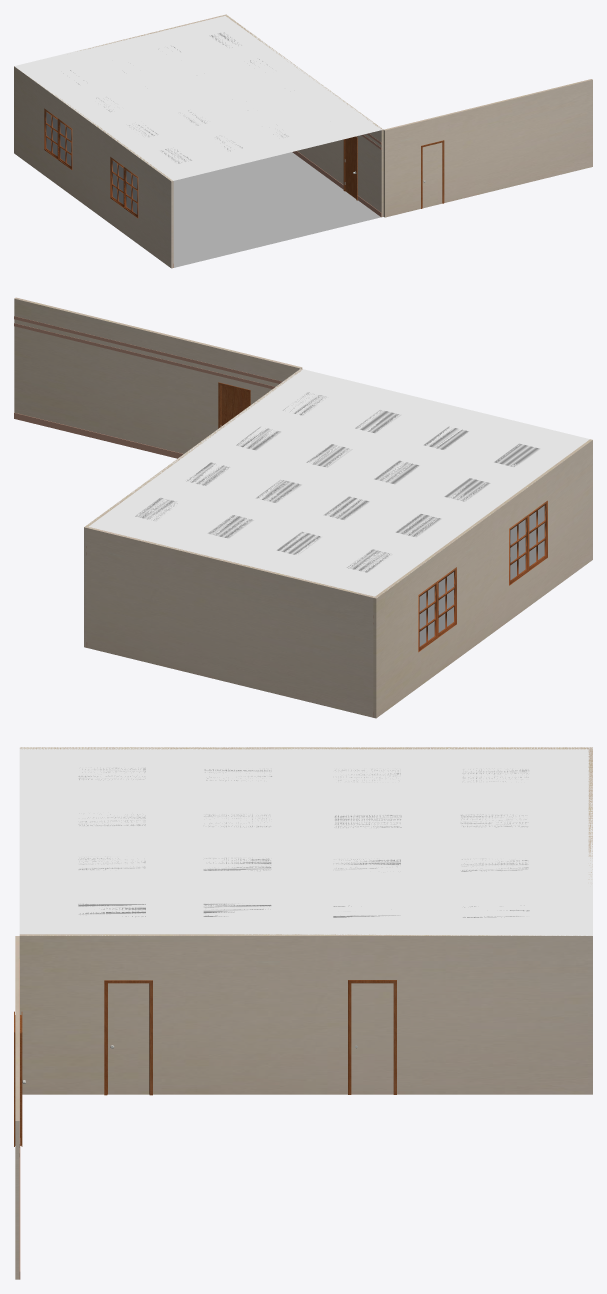
File: courtroomwallsJan25.glb
The picture shows the model from 3 angles, top to bottom: view 1: azimuth 30°, elevation 25°; view 2: azimuth 150°, elevation 25°; view 3: azimuth 270°, elevation 25°; orthographic projection. The views are drawn at different scales.
Parts seen in each view (by area): view 1: Moot Court - Coat of Arms edit.001; view 2: Moot Court - Coat of Arms edit.001; view 3: Moot Court - Coat of Arms edit.001.
Part boxes in pixels (x1=…): Moot Court - Coat of Arms edit.001: x1=14, y1=14, x2=592, y2=268; Moot Court - Coat of Arms edit.001: x1=14, y1=297, x2=592, y2=718; Moot Court - Coat of Arms edit.001: x1=14, y1=747, x2=592, y2=1279.
Bounding box in the file's own units: 606 × 120 × 397.
Materials: 20 (8 with a texture image).
